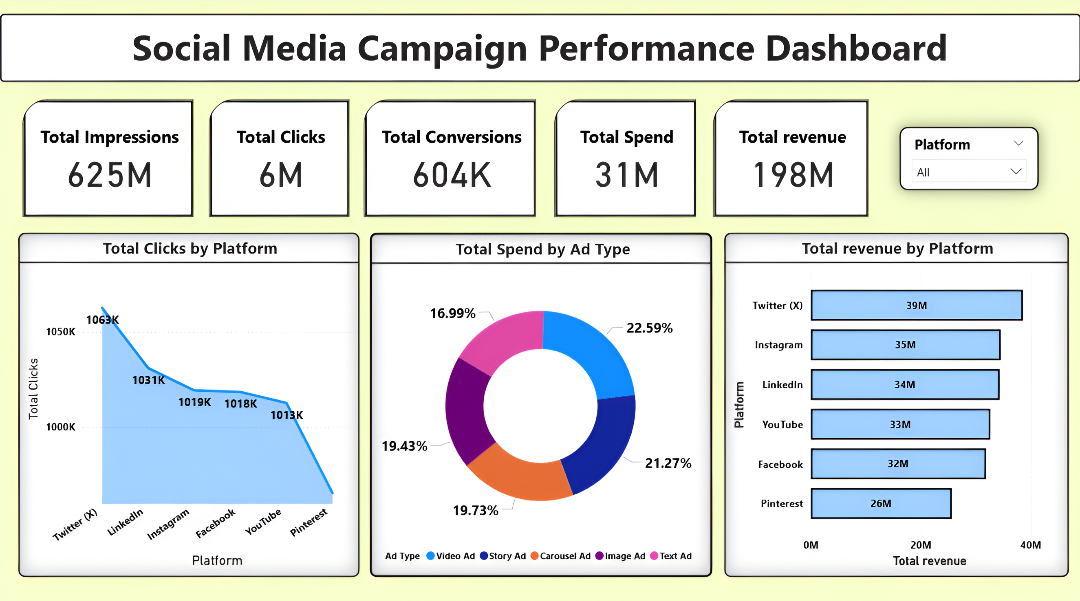

This screenshot's page, from the dashboard's own definition file:
{"tool":"powerbi","page":{"name":"Overview","canvas":[1280,720],"ordinal":0},"visuals":[{"type":"textbox","box":[0,21.7,1280,80.8],"z":0},{"type":"cardVisual","fields":{"Data":["Data.Total Impressions"]},"box":[21.7,118.2,212.3,149.6],"z":1000},{"type":"cardVisual","fields":{"Data":["Data.Total Spend"]},"box":[651.5,118.2,178.6,149.6],"z":2000},{"type":"cardVisual","fields":{"Data":["Data.Total Clicks"]},"box":[242.5,118.2,176.1,149.6],"z":3000},{"type":"cardVisual","fields":{"Data":["Data.Total Conversions"]},"box":[425.9,118.2,214.7,149.6],"z":4000},{"type":"cardVisual","fields":{"Data":["Data.Total revenue"]},"box":[839.7,118.2,194.2,149.6],"z":5000},{"type":"stackedAreaChart","fields":{"Category":["Data.Platform"],"Y":["Data.Total Clicks"]},"box":[21.7,281.1,404.2,407.8],"z":6000},{"type":"donutChart","fields":{"Y":["Data.Total Spend"],"Category":["Data.Ad Type"]},"box":[437.9,281.1,405.4,407.8],"z":7000},{"type":"clusteredBarChart","fields":{"Category":["Data.Platform"],"Y":["Data.Total revenue"]},"box":[857.8,281.1,407.8,407.8],"z":8000},{"type":"slicer","fields":{"Values":["Data.Platform"]},"box":[1065,155.6,165,75],"z":9000}]}

Visuals, with their boxes in screenshot pixels (x1, y1, x2, y2), scaled from the page's 1280x720 canvas onto the 1080x601 screenshot:
textbox: region(0, 18, 1079, 86)
cardVisual - Data.Total Impressions: region(18, 99, 197, 224)
cardVisual - Data.Total Spend: region(550, 99, 700, 224)
cardVisual - Data.Total Clicks: region(205, 99, 353, 224)
cardVisual - Data.Total Conversions: region(359, 99, 541, 224)
cardVisual - Data.Total revenue: region(708, 99, 872, 224)
stackedAreaChart - Data.Platform x Data.Total Clicks: region(18, 235, 359, 575)
donutChart - Data.Total Spend x Data.Ad Type: region(369, 235, 712, 575)
clusteredBarChart - Data.Platform x Data.Total revenue: region(724, 235, 1068, 575)
slicer - Data.Platform: region(899, 130, 1038, 192)
